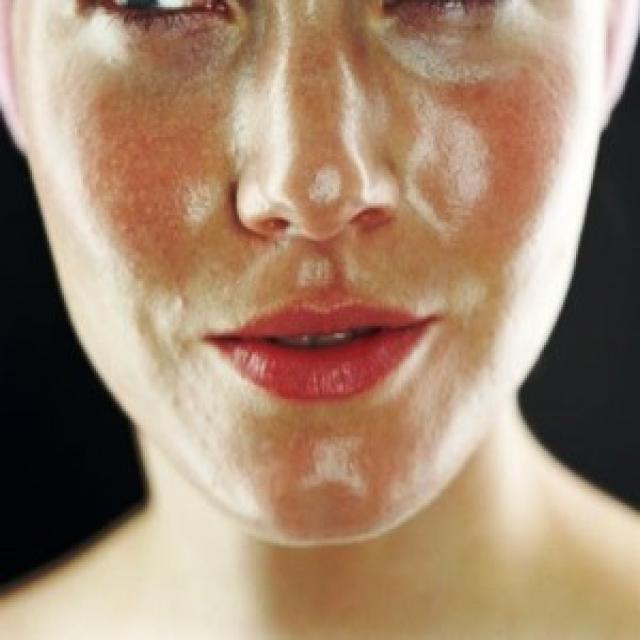oily: (233, 0, 297, 225), (335, 12, 403, 216), (413, 86, 490, 249), (372, 6, 520, 86), (300, 425, 370, 500), (408, 274, 484, 320), (182, 182, 222, 227), (308, 164, 342, 208)
